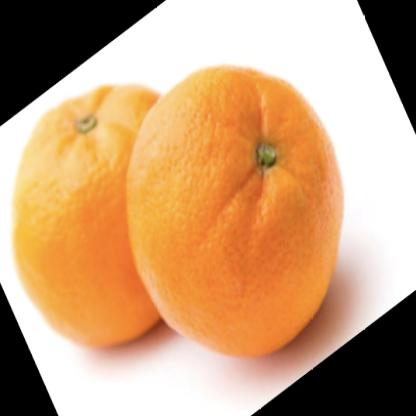fresh: (13, 66, 345, 359)
